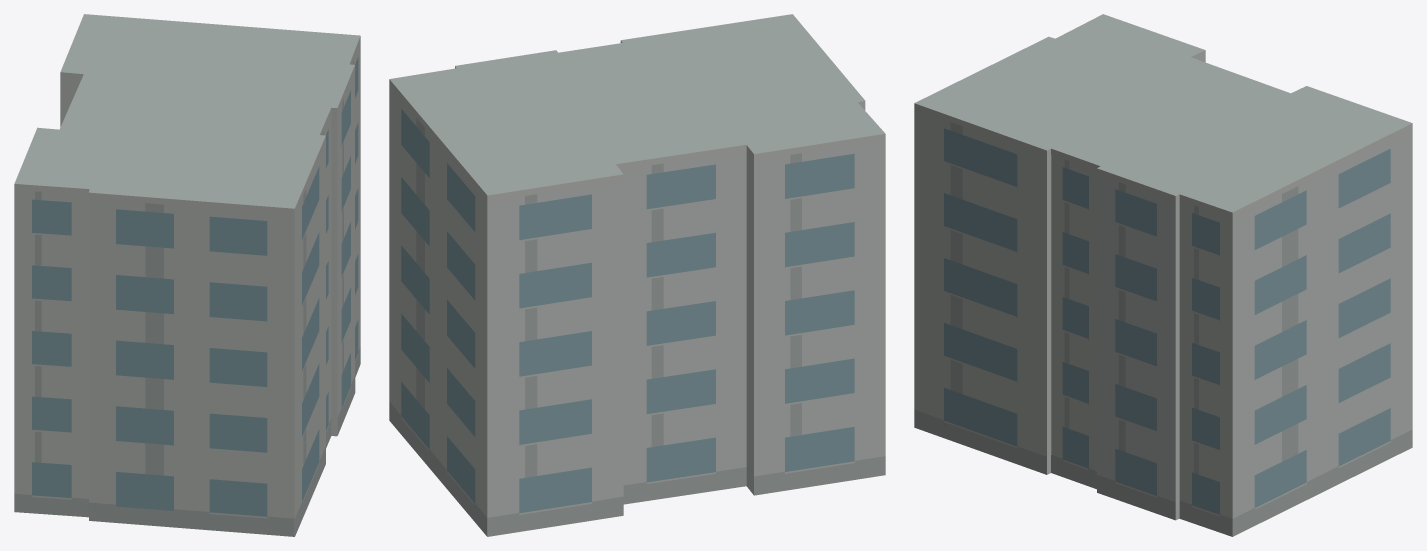
File: survey-upis-33019752.glb
3 views of the same model, side by side, from view 1: azimuth 30°, elevation 25°; view 2: azimuth 150°, elevation 25°; view 3: azimuth 270°, elevation 25° (orthographic). The views are drawn at different scales.
Visible parts, largest first — view 1: survey-upis-33019752.tmp; view 2: survey-upis-33019752.tmp; view 3: survey-upis-33019752.tmp.
Part boxes in pixels (left/top/right/bottom): survey-upis-33019752.tmp: left=14, top=14, right=360, bottom=536; survey-upis-33019752.tmp: left=389, top=14, right=885, bottom=536; survey-upis-33019752.tmp: left=914, top=14, right=1412, bottom=536.
Size of the model in its own units: 17.2 by 13.1 by 18.25.
